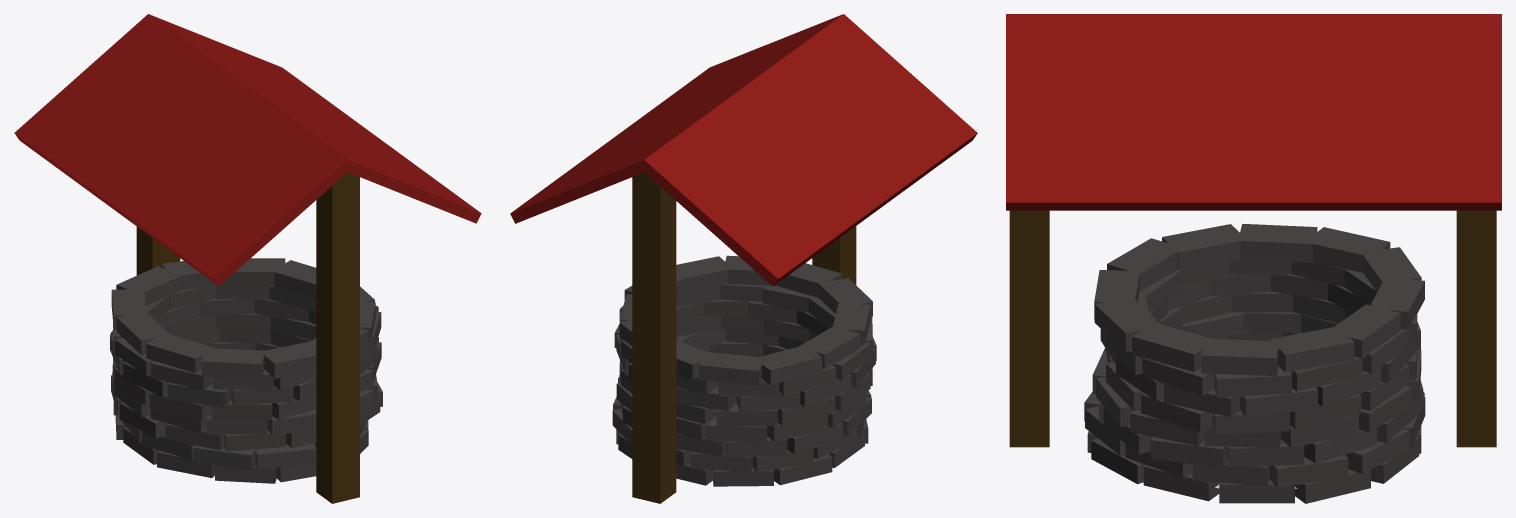
File: Brunnen.fbx
The picture shows the model from 3 angles, left to right: view 1: azimuth 30°, elevation 25°; view 2: azimuth 150°, elevation 25°; view 3: azimuth 270°, elevation 25°; orthographic projection. The views are drawn at different scales.
Parts seen in each view (by area): view 1: Plane, Cube.001, Plane.001, Stein.091, Stein.090, Stein.092, Stein.087, Stein.085, Stein.089, Stein.015, Stein.084, Stein.014 (+34 smaller); view 2: Plane, Cube, Plane.001, Stein.087, Stein.088, Stein.094, Cube.001, Stein.089, Stein.091, Stein.092, Stein.056, Stein.045 (+36 smaller); view 3: Plane.001, Cube, Cube.001, Stein.095, Stein.089, Stein.084, Stein.094, Stein.090, Stein.088, Stein.085, Stein.091, Stein.093 (+52 smaller).
Part boxes in pixels (<box>): Plane: <box>14,14,352,286</box>; Cube.001: <box>316,172,359,503</box>; Plane.001: <box>148,14,481,223</box>; Stein.091: <box>201,348,264,379</box>; Stein.090: <box>146,333,213,373</box>; Stein.092: <box>264,341,316,378</box>; Stein.087: <box>116,266,181,305</box>; Stein.085: <box>224,258,285,286</box>; Stein.089: <box>116,311,169,354</box>; Stein.015: <box>255,443,316,469</box>; Stein.084: <box>274,260,316,299</box>; Stein.014: <box>193,445,255,470</box>; Plane: <box>639,14,977,286</box>; Cube: <box>632,172,676,503</box>; Plane.001: <box>510,14,843,223</box>; Stein.087: <box>699,352,765,385</box>; Stein.088: <box>758,345,822,385</box>; Stein.094: <box>676,256,728,293</box>; Cube.001: <box>812,226,856,284</box>; Stein.089: <box>799,326,860,368</box>; Stein.091: <box>818,278,872,316</box>; Stein.092: <box>777,263,841,297</box>; Stein.056: <box>716,402,777,426</box>; Stein.045: <box>706,416,767,442</box>; Plane.001: <box>1006,14,1501,210</box>; Cube: <box>1456,210,1496,447</box>; Cube.001: <box>1009,210,1049,447</box>; Stein.095: <box>1201,338,1278,375</box>; Stein.089: <box>1238,223,1317,262</box>; Stein.084: <box>1269,327,1354,372</box>; Stein.094: <box>1132,322,1210,371</box>; Stein.090: <box>1162,224,1240,270</box>; Stein.088: <box>1305,227,1390,272</box>; Stein.085: <box>1327,304,1400,358</box>; Stein.091: <box>1107,238,1177,291</box>; Stein.093: <box>1094,298,1159,351</box>.
Size of the model in its own units: 534 by 651 by 688.
